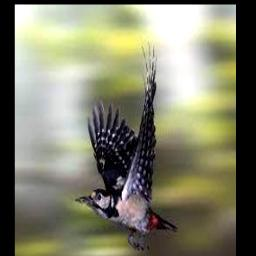Woodpecker: (75, 41, 178, 249)
